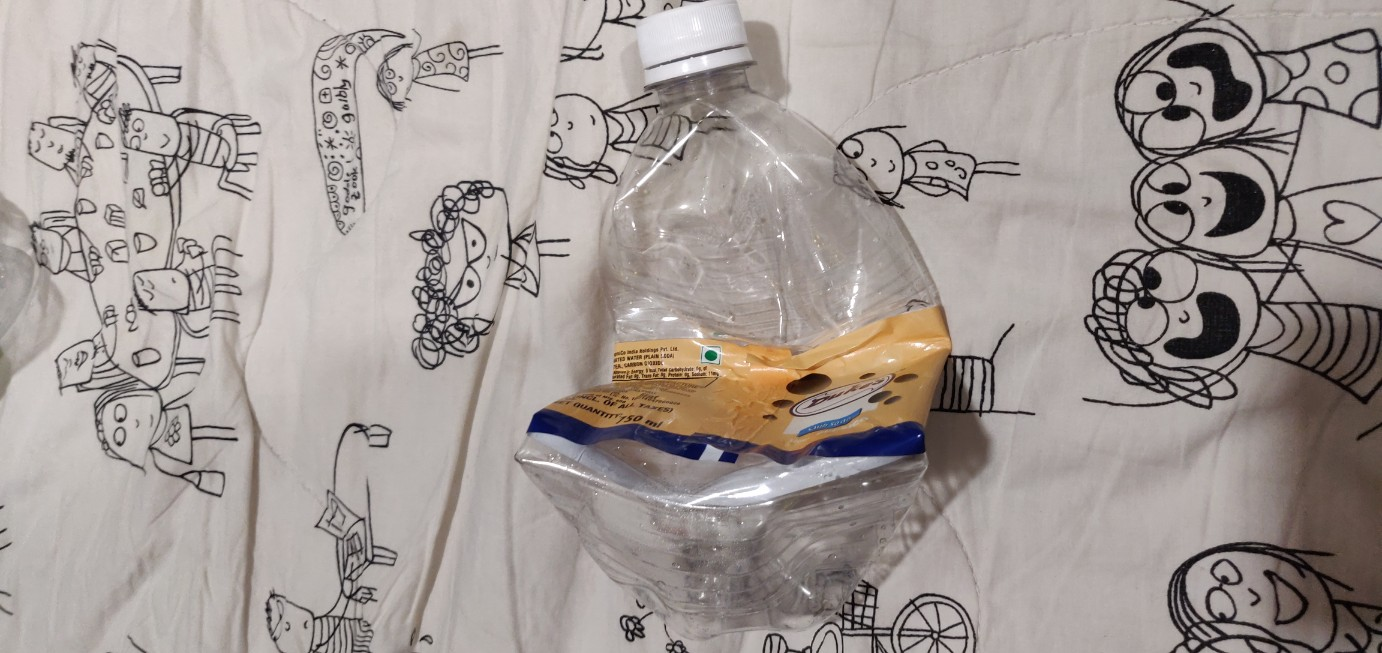Electronics: (501, 1, 995, 651)
